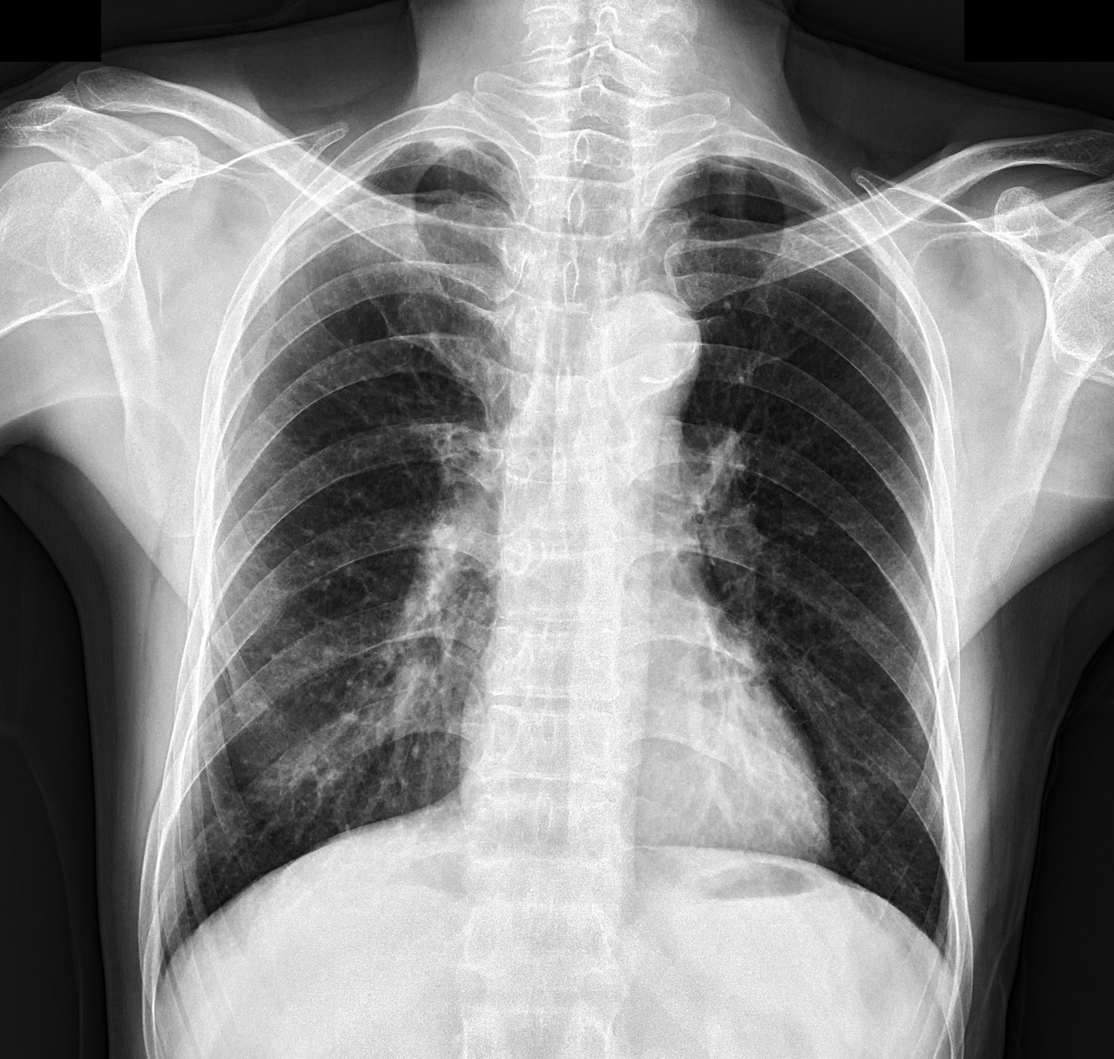Aortic enlargement: (598, 283, 702, 400)
Pleural thickening: (404, 125, 493, 172)
